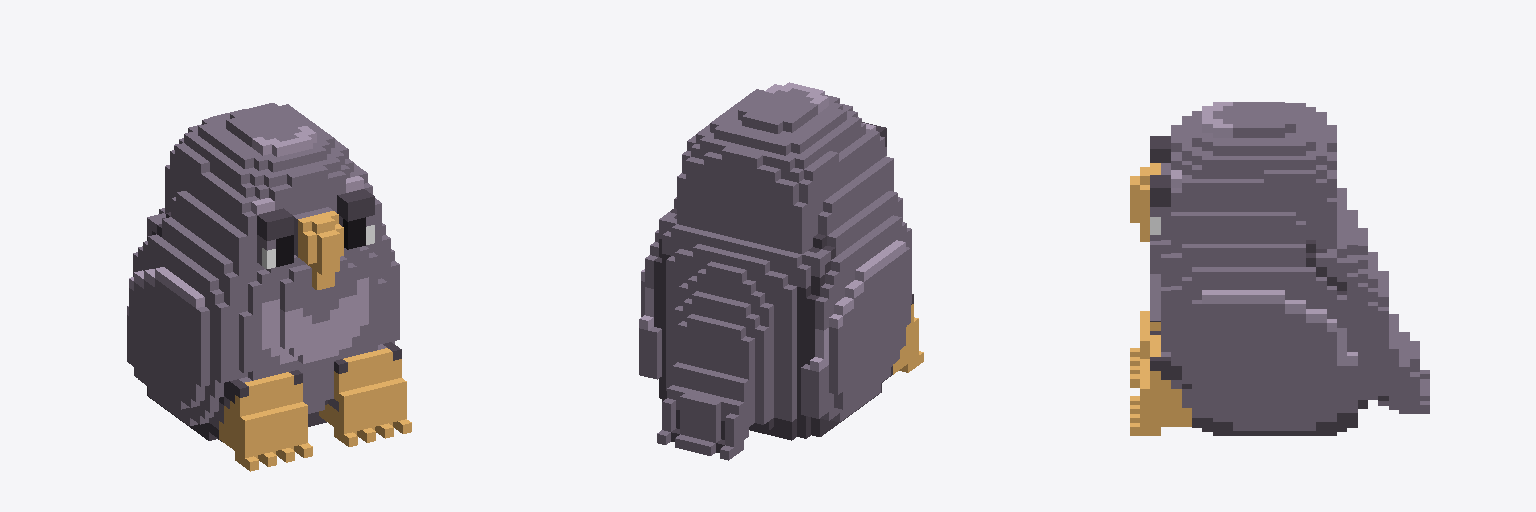
The picture shows the model from 3 angles: view 1: azimuth 30°, elevation 25°; view 2: azimuth 150°, elevation 25°; view 3: azimuth 270°, elevation 25°; orthographic projection.
Parts seen in each view (by area): view 1: birb; view 2: birb; view 3: birb.
Part boxes in pixels (left/top/right/bottom): birb: left=127, top=103, right=411, bottom=471; birb: left=639, top=82, right=923, bottom=460; birb: left=1130, top=102, right=1429, bottom=435.
Size of the model in its own units: 22 by 30 by 29.
Materials: 1 (1 with a texture image).